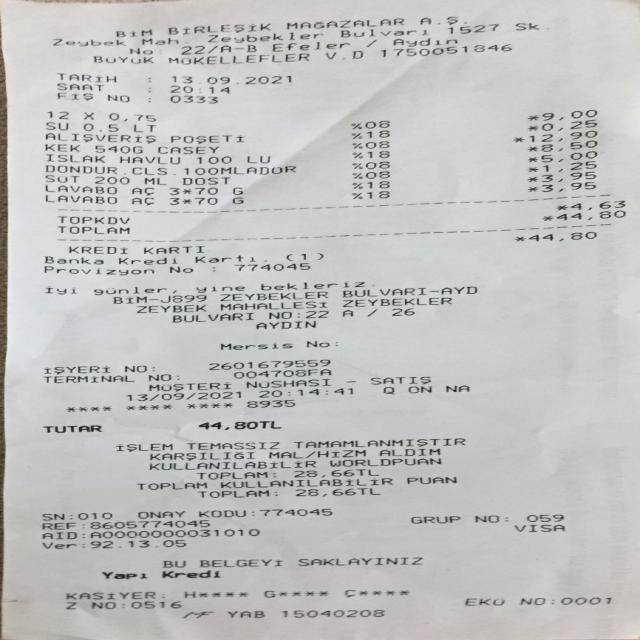text: (376, 43, 512, 56), (280, 16, 404, 29), (44, 163, 165, 175), (166, 54, 308, 64), (173, 72, 290, 84), (162, 22, 270, 34), (183, 164, 294, 175), (218, 479, 392, 486), (44, 132, 153, 143), (149, 461, 314, 468), (257, 280, 369, 290), (292, 439, 464, 445), (90, 530, 256, 536), (202, 32, 325, 40), (44, 266, 152, 275), (90, 520, 208, 528), (124, 392, 240, 400), (326, 458, 441, 466), (280, 608, 382, 617), (216, 292, 329, 300), (339, 298, 452, 306), (64, 590, 154, 600), (256, 388, 352, 397), (530, 230, 601, 242), (146, 452, 252, 460), (90, 539, 183, 548), (91, 284, 166, 295), (528, 131, 602, 142), (336, 27, 426, 36), (170, 133, 242, 144), (558, 210, 630, 221), (231, 369, 330, 377), (243, 379, 330, 388), (44, 194, 115, 205), (232, 262, 309, 272), (216, 302, 326, 309), (196, 420, 281, 429), (295, 558, 421, 564), (185, 441, 278, 449), (91, 53, 152, 65), (542, 120, 603, 132), (540, 140, 601, 152), (540, 160, 601, 172), (41, 375, 132, 383), (338, 288, 428, 296), (44, 184, 115, 194), (144, 382, 232, 390), (193, 253, 262, 263), (291, 469, 377, 477), (57, 71, 114, 83), (294, 488, 379, 496), (197, 558, 281, 566), (268, 41, 351, 49), (42, 255, 102, 266), (157, 144, 216, 155), (116, 254, 175, 265), (134, 304, 206, 313), (134, 481, 206, 490), (57, 215, 128, 224), (57, 225, 128, 234), (542, 109, 599, 120), (541, 151, 598, 162), (389, 37, 458, 46), (193, 281, 244, 293), (42, 365, 110, 374), (50, 38, 126, 46), (119, 154, 179, 164), (540, 182, 600, 192), (258, 508, 332, 516), (566, 199, 631, 208), (169, 84, 227, 94), (436, 24, 500, 33), (47, 153, 104, 163), (196, 490, 267, 498), (367, 376, 430, 385), (356, 587, 407, 598), (169, 93, 215, 105), (196, 588, 246, 599), (276, 588, 326, 599), (141, 245, 201, 254), (40, 424, 100, 433), (311, 448, 365, 458), (195, 471, 262, 479), (68, 245, 125, 254), (375, 448, 439, 456), (218, 342, 291, 349), (205, 362, 332, 366), (170, 314, 253, 320), (541, 172, 596, 181), (182, 176, 226, 187), (159, 570, 217, 578), (56, 81, 98, 92), (110, 111, 152, 122), (94, 144, 140, 154), (405, 475, 456, 484), (253, 321, 315, 328), (135, 510, 183, 519), (281, 252, 324, 262), (128, 600, 180, 608), (243, 399, 294, 407), (512, 523, 563, 531), (559, 596, 610, 604), (136, 34, 176, 44), (416, 15, 459, 24), (325, 50, 363, 60), (406, 515, 459, 522), (57, 91, 94, 101), (110, 295, 147, 305), (196, 509, 242, 517), (100, 570, 146, 578), (226, 608, 262, 618), (82, 121, 114, 132), (40, 540, 75, 550), (440, 286, 478, 295), (43, 142, 77, 152), (195, 154, 229, 164), (43, 174, 77, 184), (74, 511, 111, 520), (40, 521, 77, 530), (266, 449, 302, 458), (463, 597, 503, 605), (113, 28, 152, 36), (95, 175, 126, 185), (524, 514, 562, 522), (39, 286, 76, 294), (177, 44, 206, 54), (40, 530, 75, 538), (125, 47, 154, 56), (512, 21, 538, 31), (146, 372, 172, 382), (405, 385, 432, 394), (442, 384, 469, 393), (122, 363, 146, 373), (364, 190, 390, 199), (303, 339, 329, 348), (518, 596, 544, 605), (388, 307, 413, 316), (107, 92, 127, 103), (130, 195, 152, 205), (194, 196, 216, 206), (265, 311, 292, 319), (161, 559, 185, 568), (360, 120, 390, 127), (44, 121, 65, 131), (363, 129, 389, 137), (363, 141, 389, 149), (363, 160, 389, 168), (39, 512, 62, 521), (132, 123, 152, 133), (365, 150, 390, 158), (365, 180, 390, 188), (47, 109, 65, 120), (194, 186, 216, 195), (362, 171, 390, 178), (246, 155, 267, 164), (472, 514, 495, 522), (144, 176, 162, 186), (362, 38, 379, 48), (168, 266, 192, 273), (306, 310, 327, 318), (90, 600, 111, 608), (203, 264, 221, 273), (553, 203, 570, 212), (538, 213, 554, 222), (262, 588, 274, 600), (380, 386, 394, 396), (339, 308, 353, 317), (206, 43, 217, 54), (220, 43, 231, 54), (234, 42, 245, 53), (156, 46, 168, 56), (230, 196, 242, 206), (147, 294, 159, 304), (347, 130, 361, 138), (522, 154, 536, 162), (522, 175, 536, 183), (512, 234, 526, 242), (365, 308, 379, 316), (246, 42, 257, 52), (344, 376, 354, 387), (78, 520, 89, 530), (509, 134, 521, 143), (232, 186, 242, 196), (346, 121, 358, 129), (523, 123, 535, 131), (523, 144, 535, 152), (83, 111, 92, 121), (168, 286, 178, 295), (429, 286, 438, 296), (524, 114, 539, 120), (351, 181, 362, 189), (63, 600, 74, 608), (523, 165, 535, 172), (523, 185, 535, 192), (168, 196, 176, 206), (350, 141, 360, 149), (350, 151, 360, 159), (350, 191, 360, 199), (172, 371, 180, 381), (292, 310, 301, 318), (305, 449, 313, 458), (79, 530, 87, 539), (350, 161, 360, 168), (80, 539, 87, 549), (267, 469, 274, 478), (246, 508, 253, 517), (169, 185, 175, 195), (351, 171, 358, 179), (66, 512, 73, 520), (115, 600, 122, 608), (499, 514, 505, 522), (150, 362, 154, 372), (271, 488, 274, 498), (550, 596, 553, 605)
